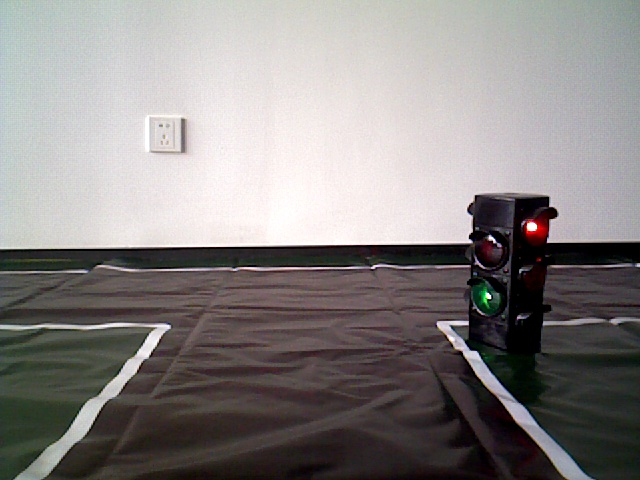red: (471, 196, 542, 350)
